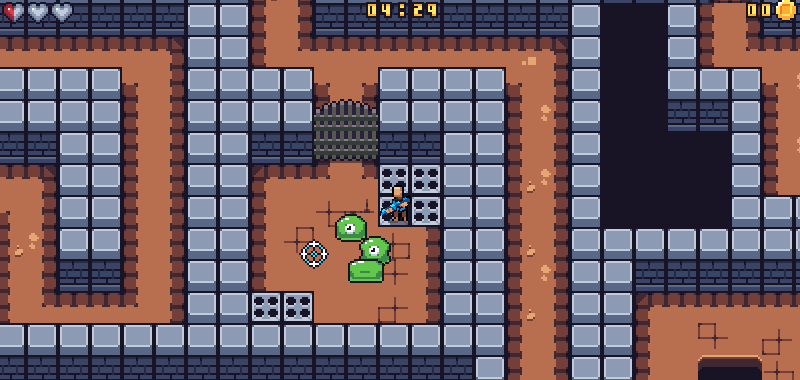enemy_slug_big: (357, 234, 392, 263), (335, 212, 366, 240), (347, 259, 383, 283)
trap_door: (310, 101, 383, 161)
trap_off: (378, 165, 440, 222), (248, 292, 314, 322)
